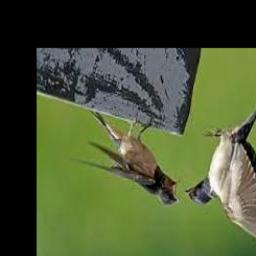Swallow: (185, 61, 256, 252), (74, 111, 181, 206)
